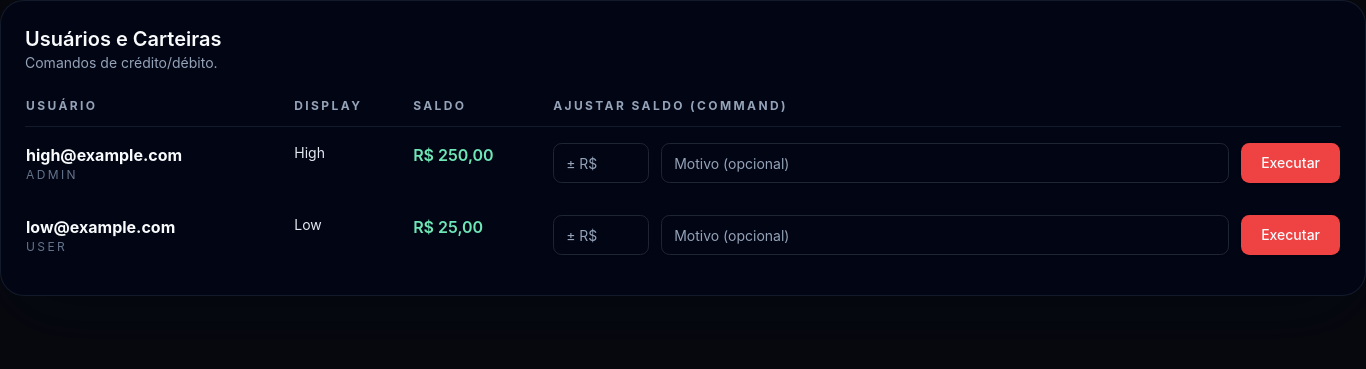
Scenario: Admin balance flow › shows responses beside the right row and keeps submissions isolated
Type "50" into the number field with placeholder "± R$" in the row of "high@example.com" at [601, 163], box [553,143,649,183]
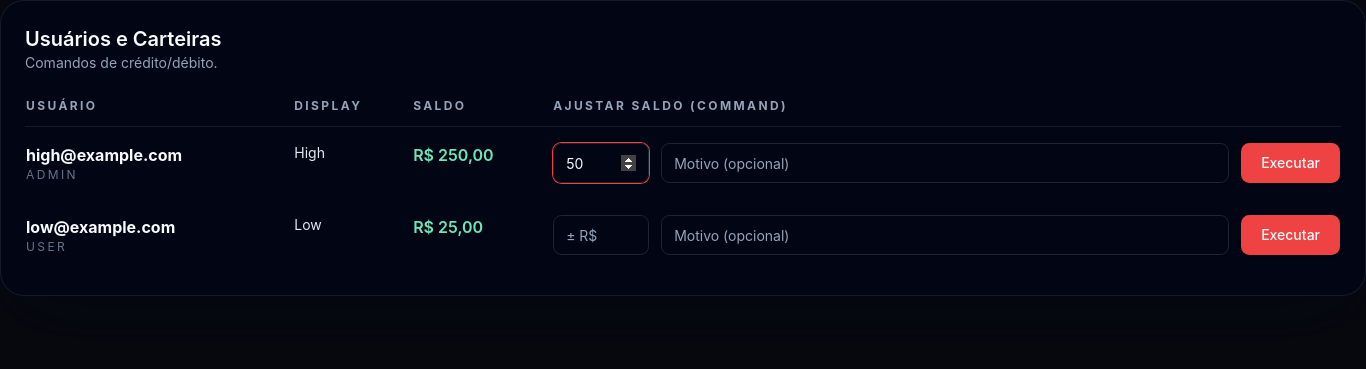
Type "Bônus" into the field with placeholder "Motivo (opcional)" in the row of "high@example.com" at [945, 163], box [661,143,1229,183]
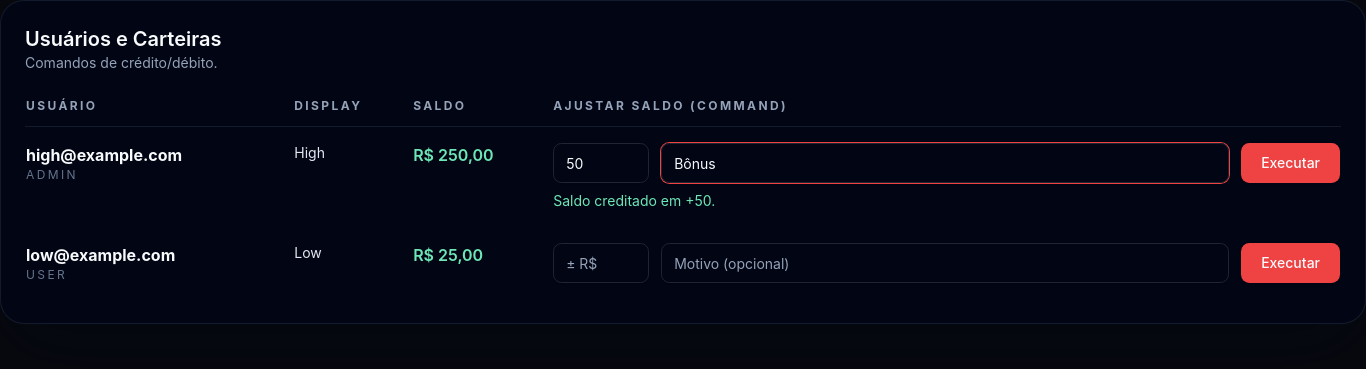
Expected: the form with placeholder "± R$" in the row of "high@example.com" is shown, [553,143,1340,183]
Expected: the text "Saldo creditado em +50." is shown, [553,192,715,209]
Type "-100" into the number field with placeholder "± R$" at [601, 263], box [553,243,649,283]
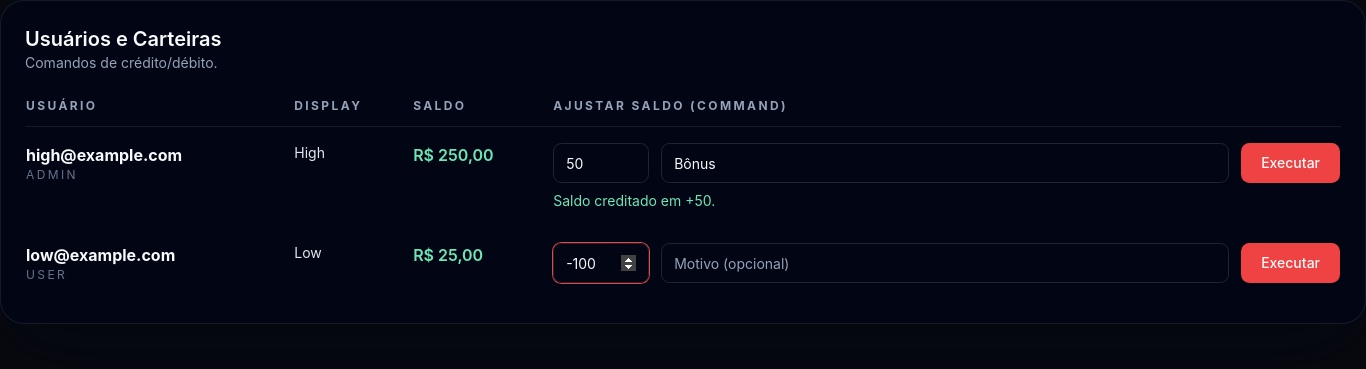
Type "Ajuste manual" into the field with placeholder "Motivo (opcional)" at [945, 263], box [661,243,1229,283]
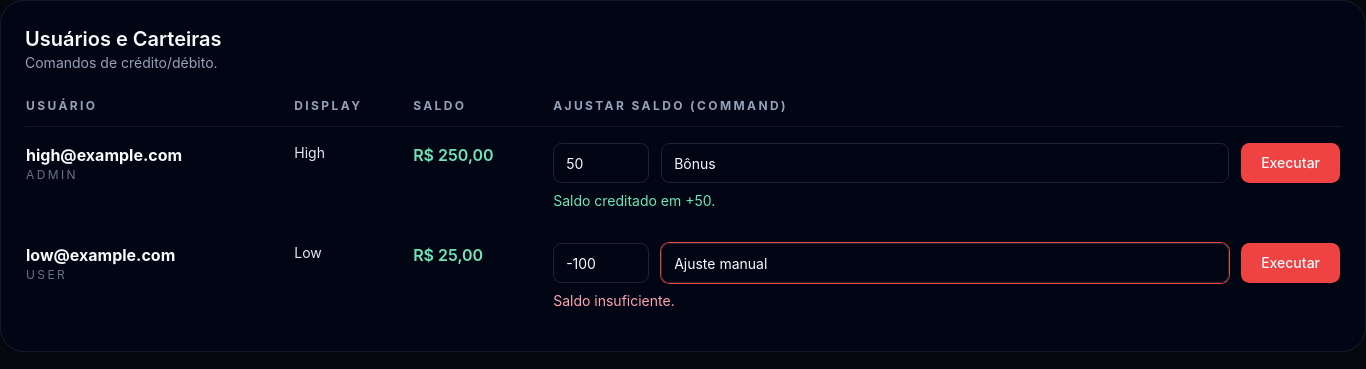
Expected: the form with placeholder "± R$" in the row of "low@example.com" is shown, [553,243,1340,283]
Expected: the text "Saldo insuficiente." is shown, [553,292,675,309]
